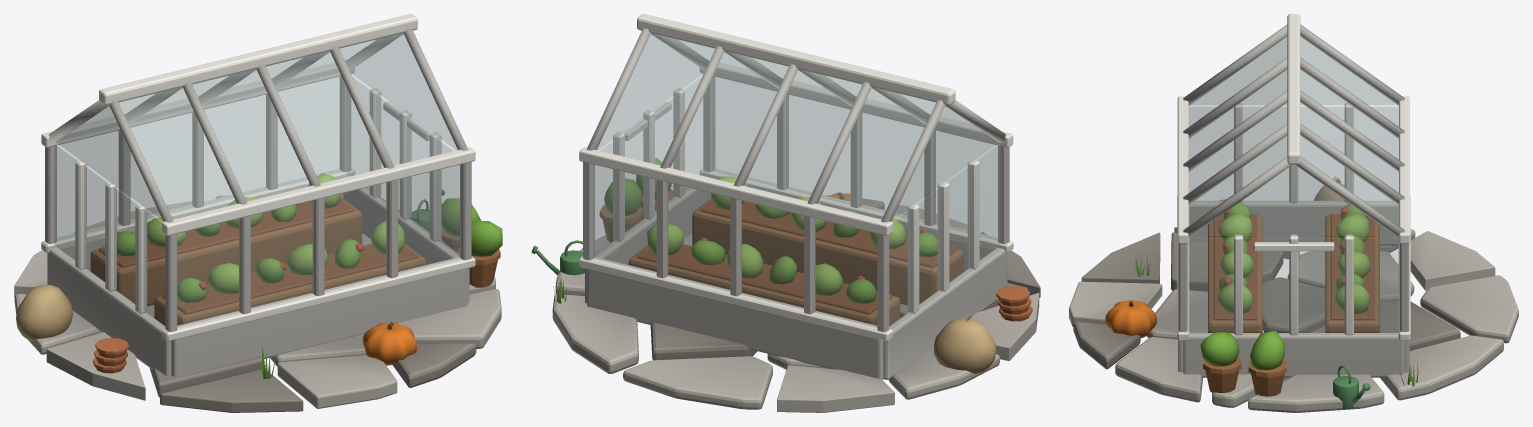
File: serre.glb
3 renders of one model, left to right at view 1: azimuth 30°, elevation 25°; view 2: azimuth 150°, elevation 25°; view 3: azimuth 270°, elevation 25°, orthographic. The views are drawn at different scales.
Visible parts, largest first — view 1: serre:verre, serre:peinture-blanche, serre:pierre, serre:bois, serre:pierre-sombre, serre:terre, serre:feuillage, serre:feuillage-clair, serre:jute, serre:citrouille, serre:terre-claire, serre:pot; view 2: serre:verre, serre:peinture-blanche, serre:pierre, serre:bois, serre:terre, serre:feuillage, serre:pierre-sombre, serre:feuillage-clair, serre:jute, serre:pot, serre:peinture-verte, serre:terre-claire; view 3: serre:verre, serre:peinture-blanche, serre:pierre, serre:pierre-sombre, serre:terre, serre:feuillage-clair, serre:bois, serre:feuillage, serre:terre-claire, serre:citrouille, serre:peinture-verte.
Part boxes in pixels (x1=…): serre:verre: x1=54, y1=33, x2=460, y2=327; serre:peinture-blanche: x1=41, y1=14, x2=475, y2=376; serre:pierre: x1=14, y1=195, x2=501, y2=408; serre:bois: x1=90, y1=197, x2=425, y2=325; serre:pierre-sombre: x1=149, y1=343, x2=476, y2=412; serre:terre: x1=98, y1=199, x2=418, y2=314; serre:feuillage: x1=117, y1=198, x2=502, y2=302; serre:feuillage-clair: x1=147, y1=173, x2=405, y2=293; serre:jute: x1=16, y1=284, x2=72, y2=341; serre:citrouille: x1=362, y1=322, x2=417, y2=365; serre:terre-claire: x1=441, y1=228, x2=500, y2=287; serre:pot: x1=93, y1=338, x2=129, y2=373; serre:verre: x1=593, y1=33, x2=1000, y2=327; serre:peinture-blanche: x1=579, y1=14, x2=1013, y2=379; serre:pierre: x1=552, y1=205, x2=1039, y2=412; serre:bois: x1=628, y1=198, x2=963, y2=325; serre:terre: x1=636, y1=200, x2=955, y2=314; serre:feuillage: x1=604, y1=158, x2=937, y2=303; serre:pierre-sombre: x1=650, y1=195, x2=1040, y2=360; serre:feuillage-clair: x1=647, y1=176, x2=907, y2=295; serre:jute: x1=933, y1=316, x2=996, y2=374; serre:pot: x1=996, y1=286, x2=1032, y2=321; serre:peinture-verte: x1=531, y1=240, x2=584, y2=275; serre:terre-claire: x1=599, y1=188, x2=673, y2=242; serre:verre: x1=1188, y1=35, x2=1399, y2=330; serre:peinture-blanche: x1=1177, y1=14, x2=1410, y2=377; serre:pierre: x1=1069, y1=227, x2=1518, y2=412; serre:pierre-sombre: x1=1073, y1=232, x2=1460, y2=369; serre:terre: x1=1213, y1=214, x2=1374, y2=320; serre:feuillage-clair: x1=1217, y1=214, x2=1370, y2=314; serre:bois: x1=1208, y1=214, x2=1379, y2=332; serre:feuillage: x1=1200, y1=202, x2=1367, y2=370; serre:terre-claire: x1=1203, y1=356, x2=1286, y2=396; serre:citrouille: x1=1105, y1=300, x2=1156, y2=337; serre:peinture-verte: x1=1333, y1=365, x2=1370, y2=409.
Size of the model in its own units: 3.62 by 2 by 3.46.
